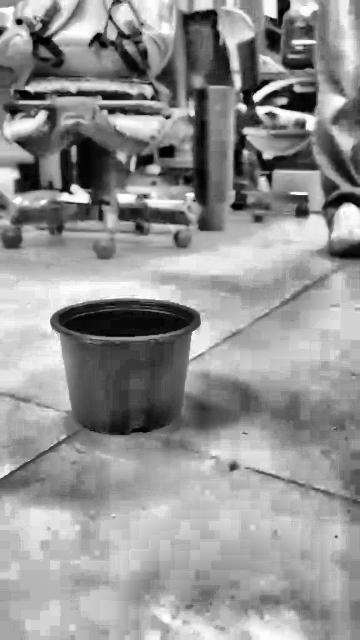pot: (51, 299, 199, 436)
